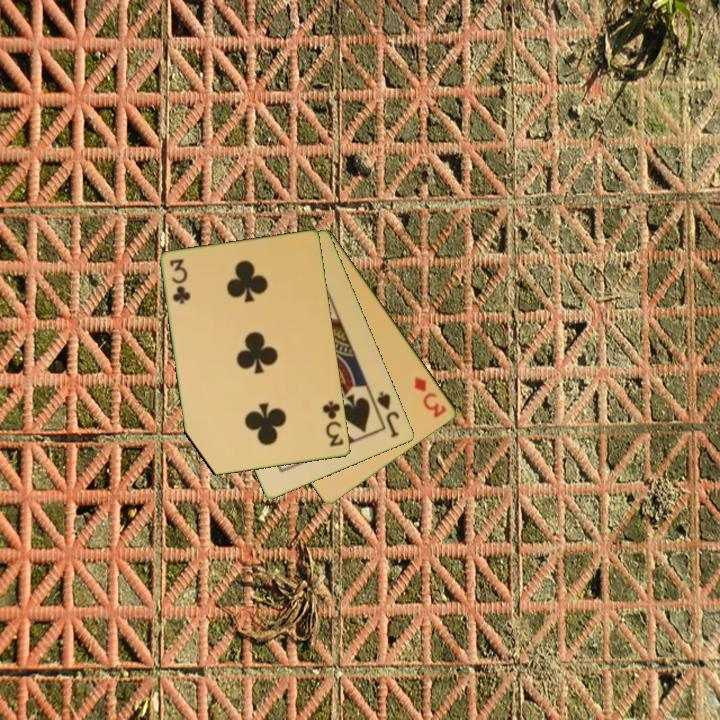3c: (319, 397, 347, 450), (166, 256, 192, 307)
3d: (411, 373, 450, 421)
Js: (374, 388, 403, 441)
